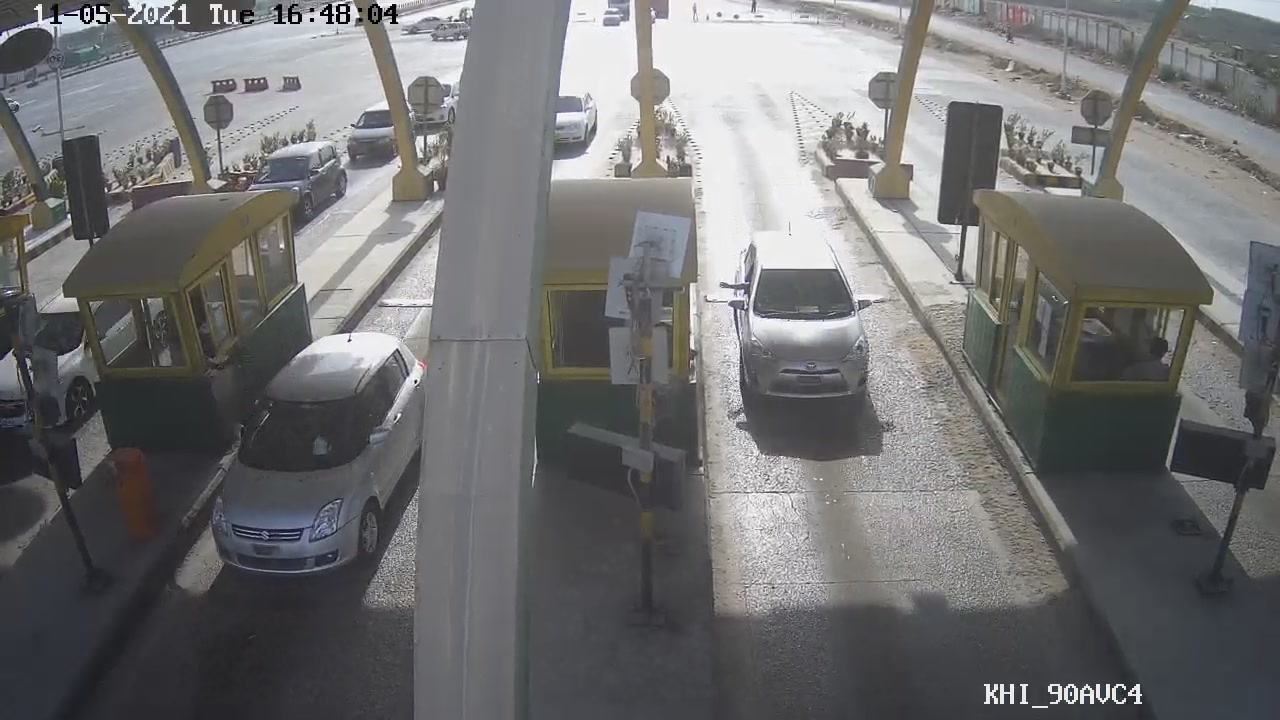F1: (713, 224, 900, 414)
